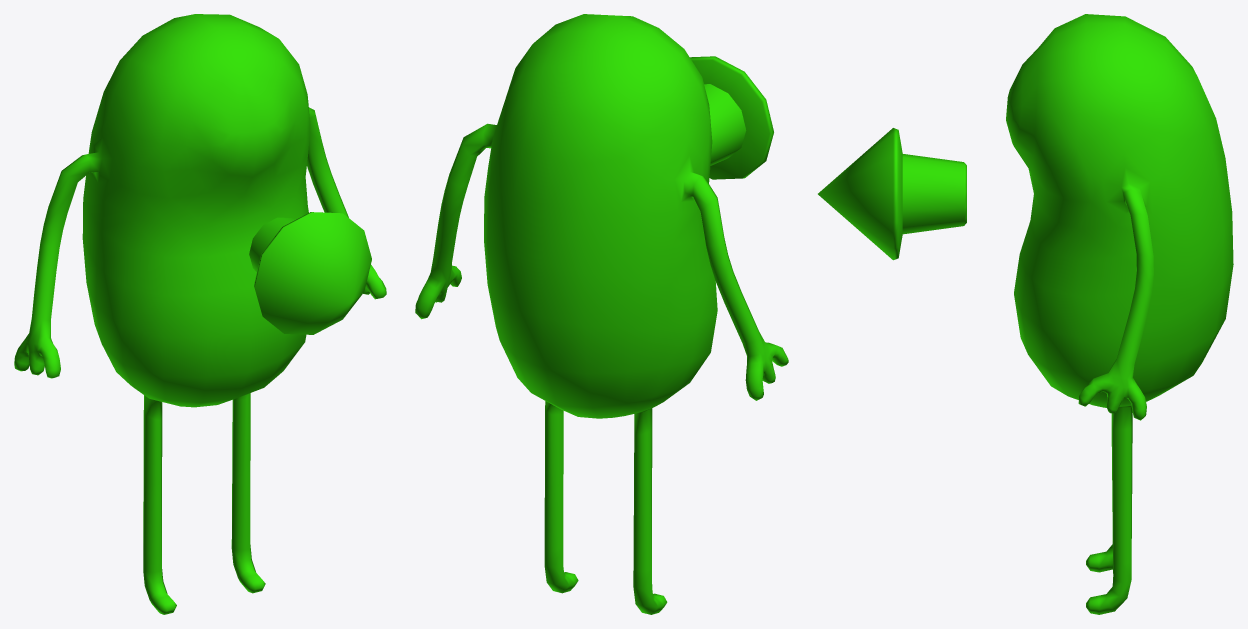
The model's file is Gizmo_Spawn_Collider_None.glb.
The picture shows the model from 3 angles, left to right: view 1: azimuth 30°, elevation 25°; view 2: azimuth 150°, elevation 25°; view 3: azimuth 270°, elevation 25°; orthographic projection. The views are drawn at different scales.
Parts seen in each view (by area): view 1: Guizmo_Spawner_Collider_None; view 2: Guizmo_Spawner_Collider_None; view 3: Guizmo_Spawner_Collider_None.
Part boxes in pixels (x1,y1,x2,y2): Guizmo_Spawner_Collider_None: (14, 14, 386, 614); Guizmo_Spawner_Collider_None: (415, 14, 788, 614); Guizmo_Spawner_Collider_None: (818, 14, 1233, 614).
Size of the model in its own units: 1.09 by 1.73 by 1.15.
